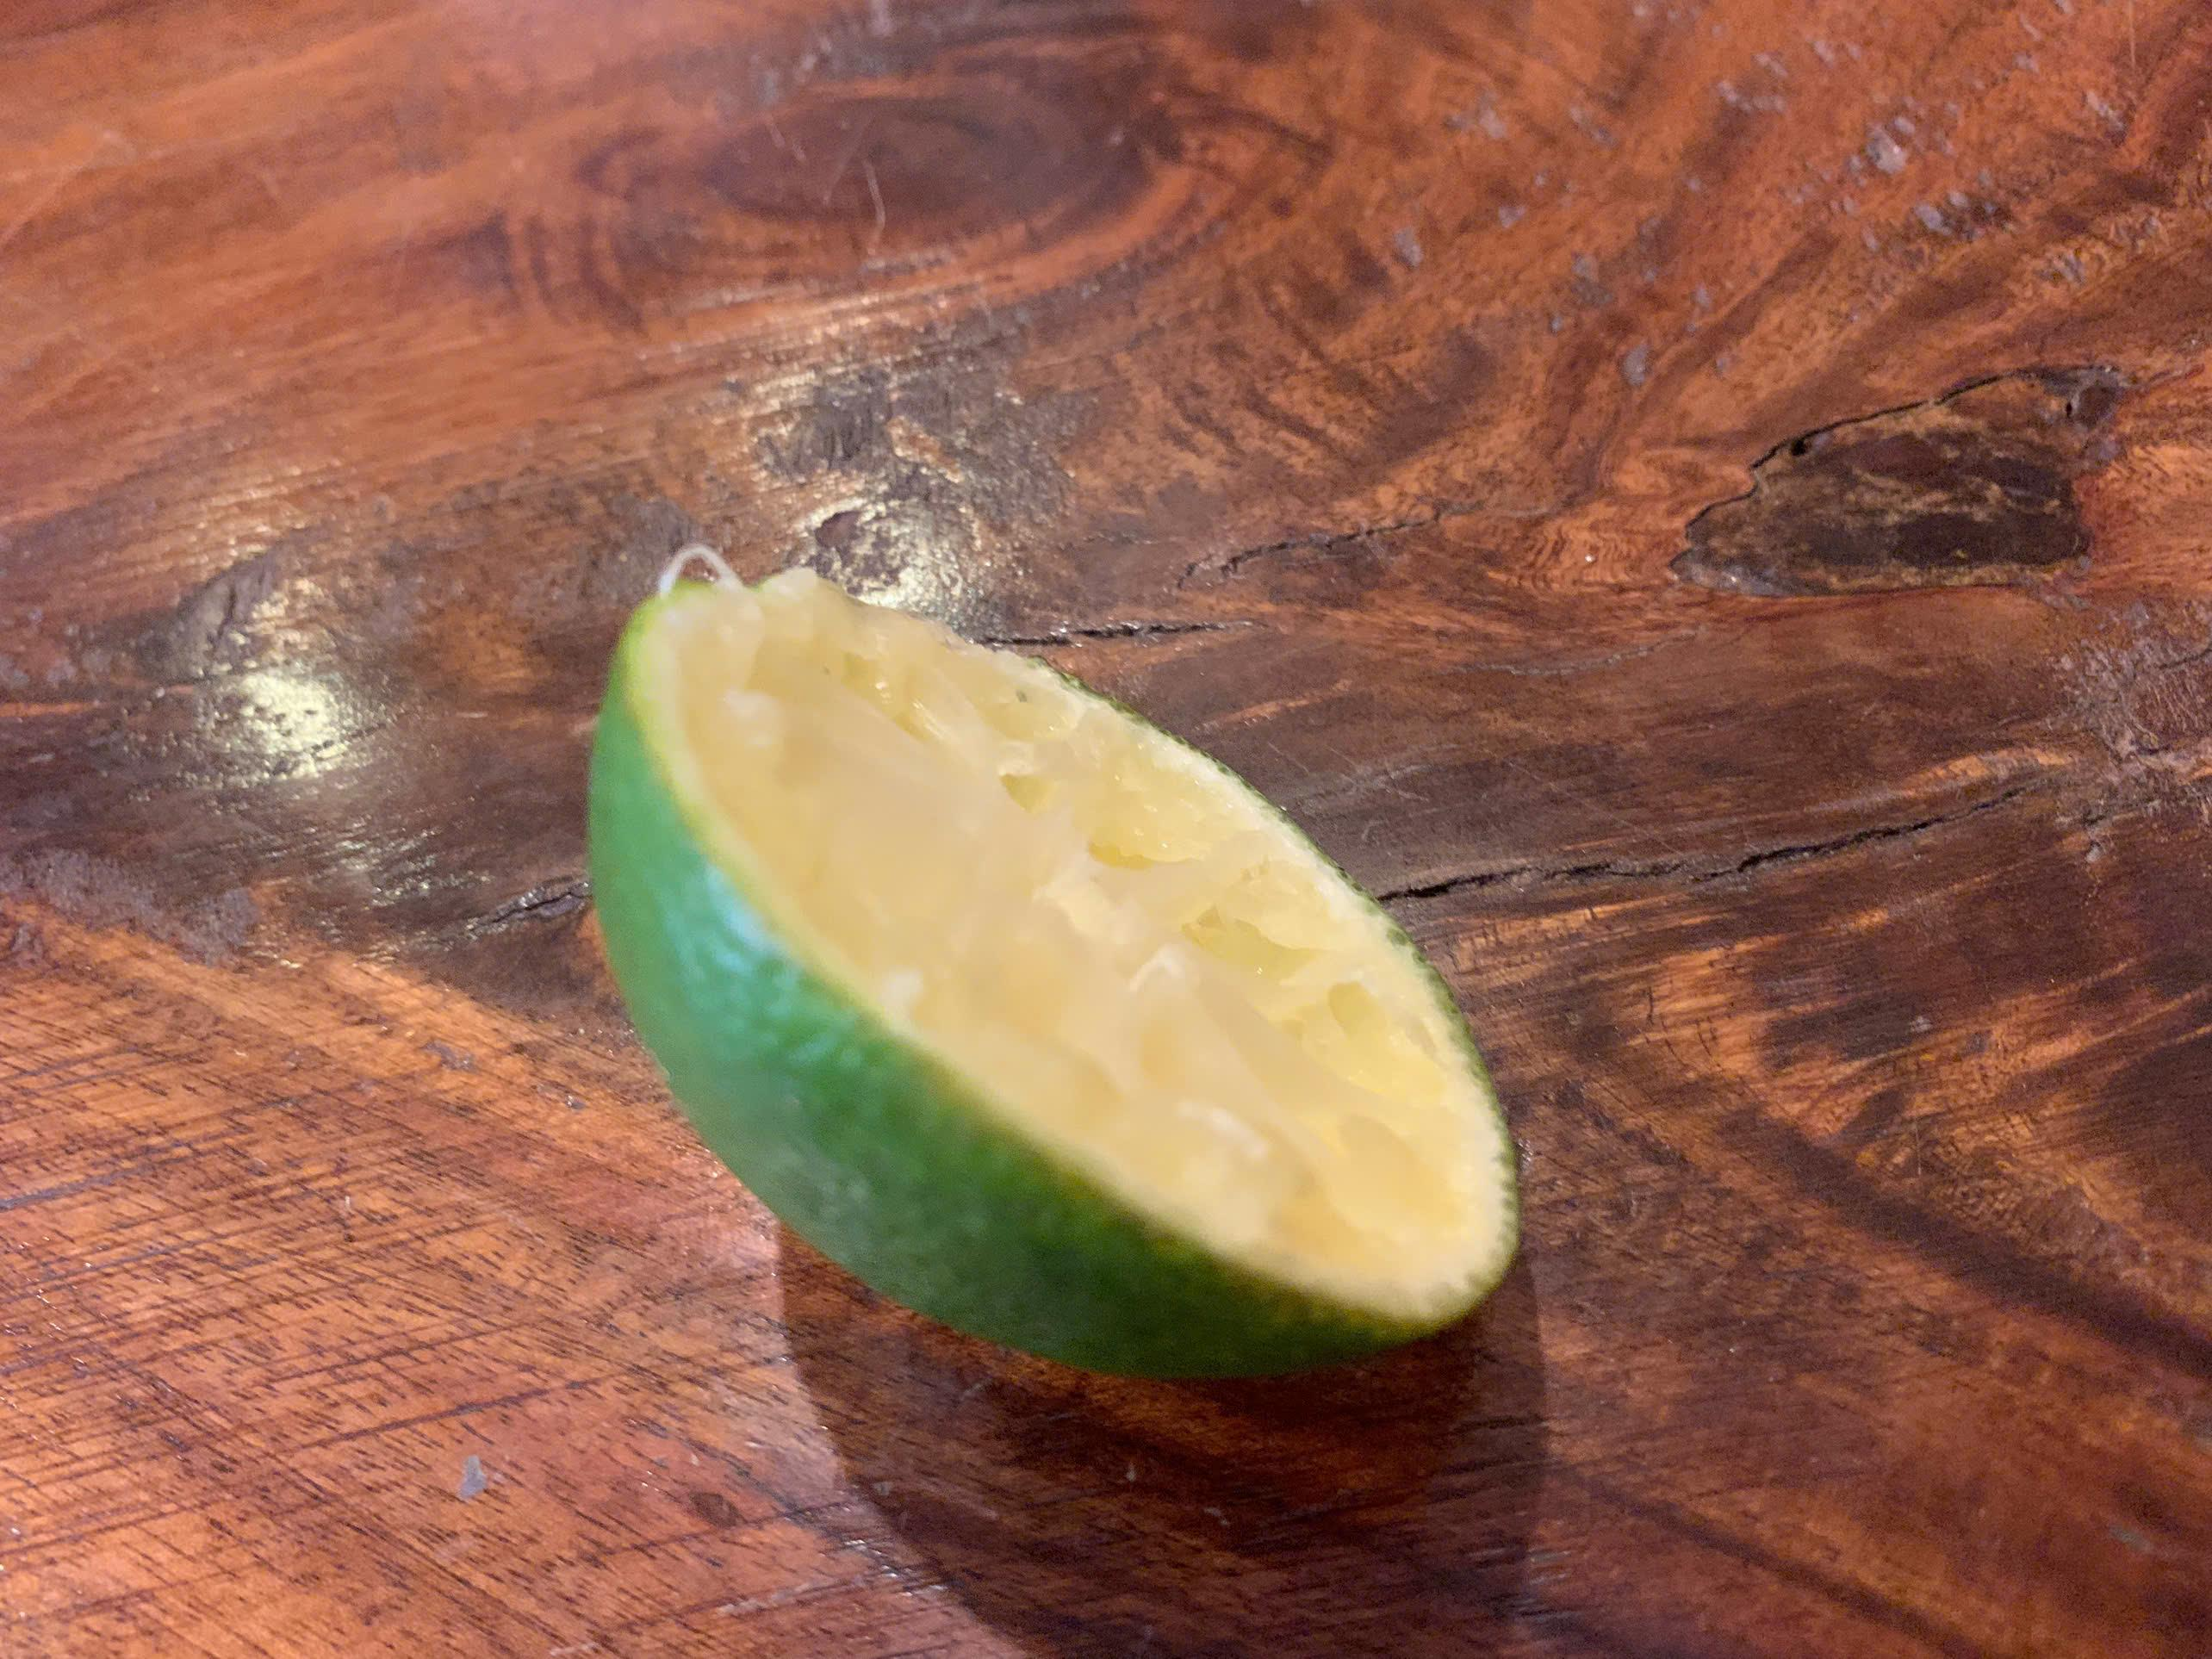Huu co: (601, 561, 1514, 1354)
